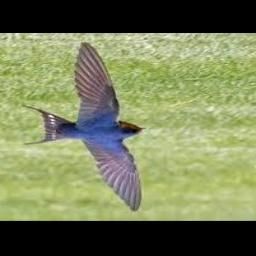Swallow: (23, 42, 146, 212)
